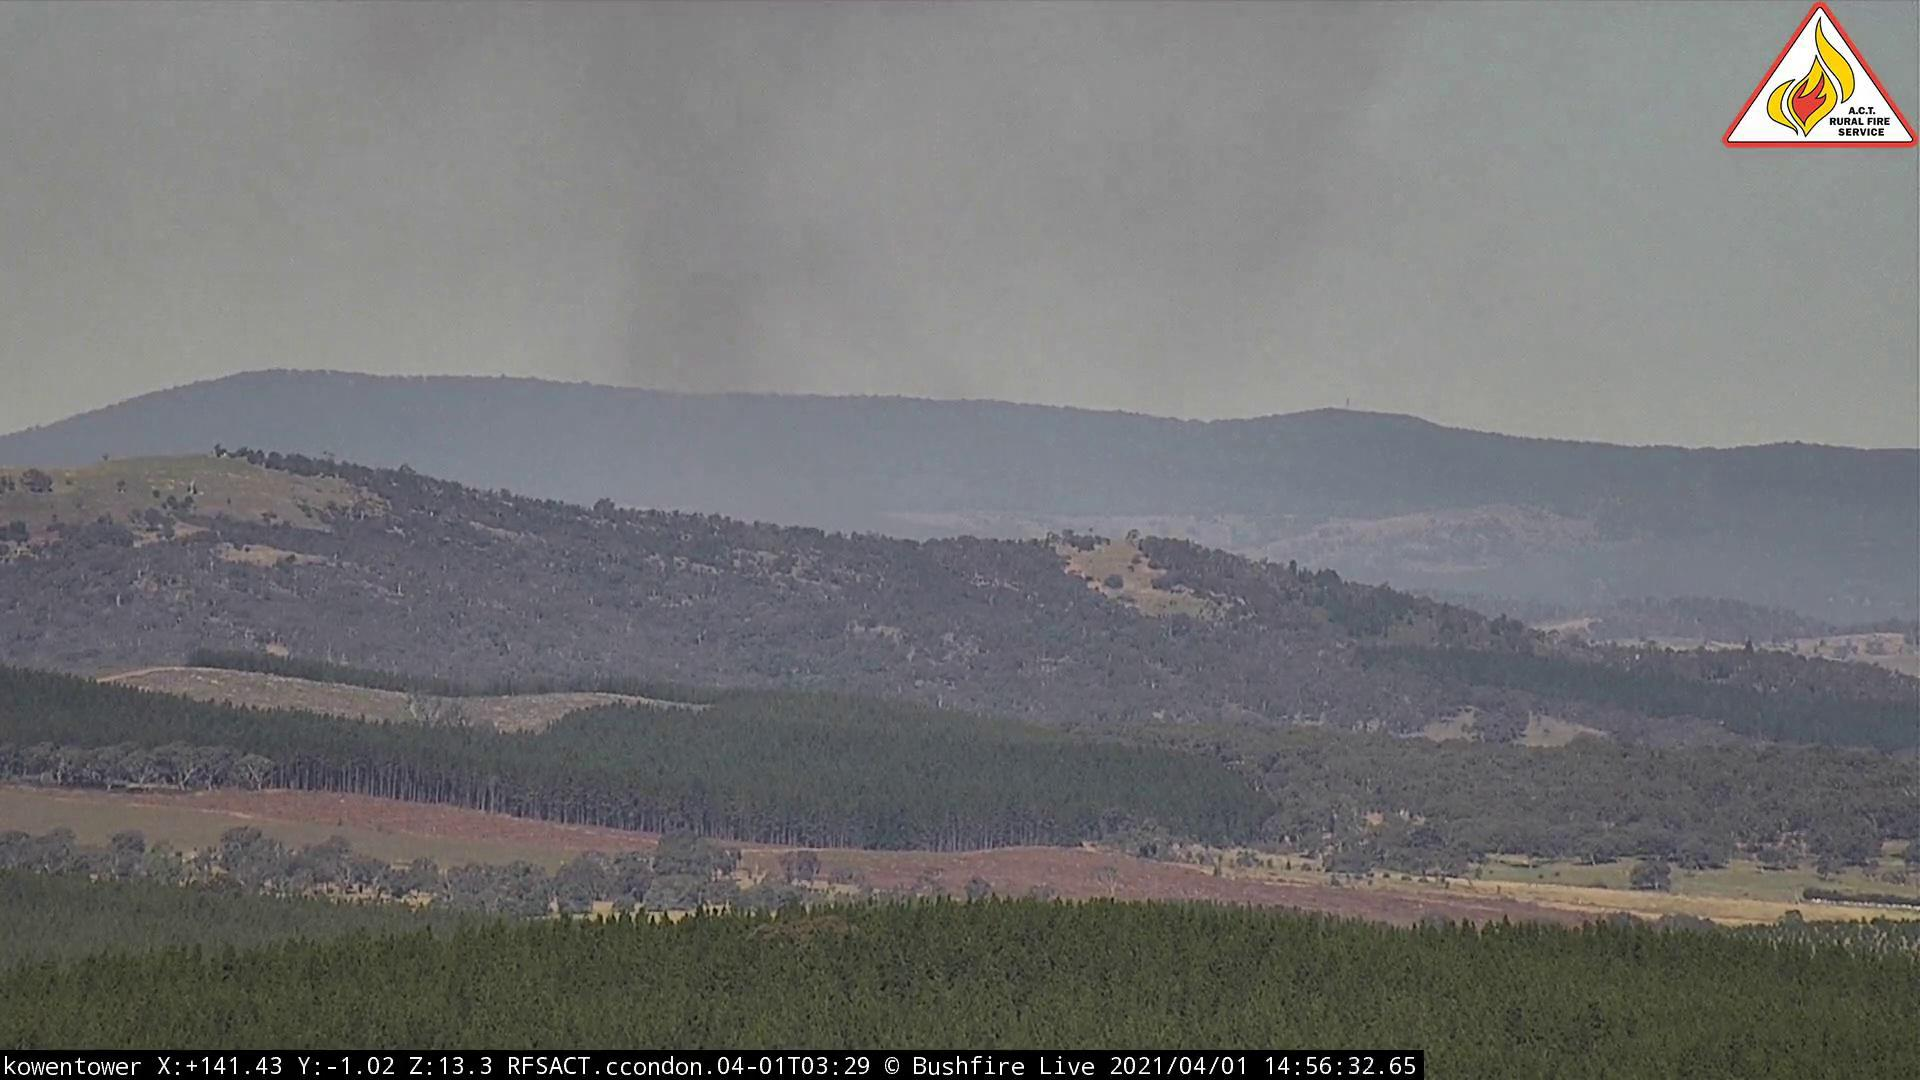Smoke: (559, 3, 1418, 411)
